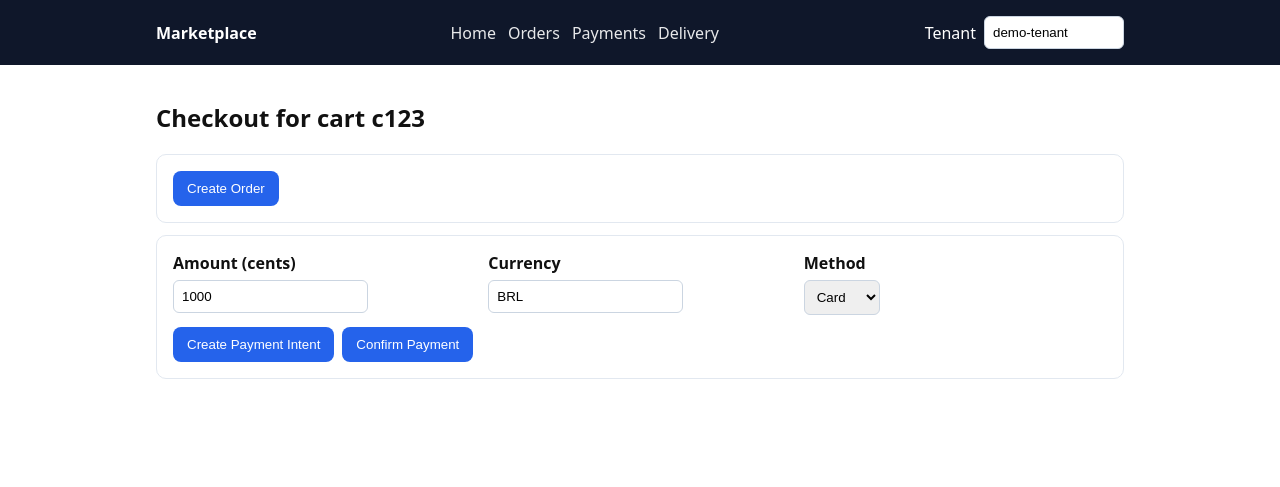
Test case: CheckoutPage › creates order then payment intent and confirm
What coordinates should you click on to do the following:
click the button "Create Order"
I would click on:
 (226, 188)
Its box is left=173, top=171, right=279, bottom=206.
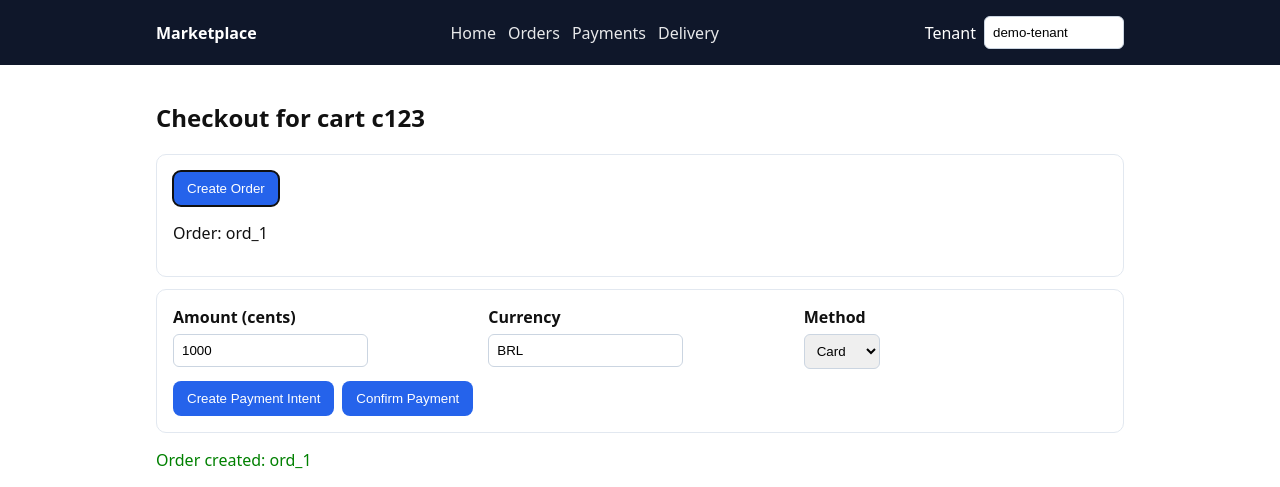
Expected: the text "Order: ord_1" is shown, left=173, top=222, right=268, bottom=244
What coordinates should you click on to do the following:
click the button "Create Payment Intent"
I would click on:
 (254, 398)
Its box is left=173, top=381, right=334, bottom=416.
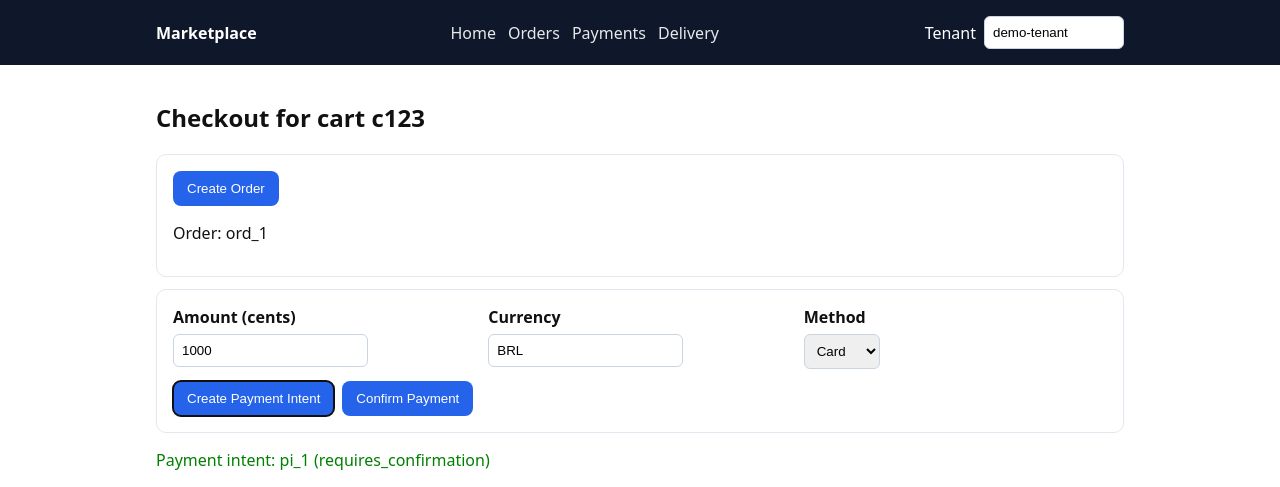
Expected: the text "Payment intent: pi_1 (requires_confirmation)" is shown, left=156, top=449, right=490, bottom=471
What coordinates should you click on to do the following:
click the button "Confirm Payment"
I would click on:
 (408, 398)
Its box is left=342, top=381, right=473, bottom=416.
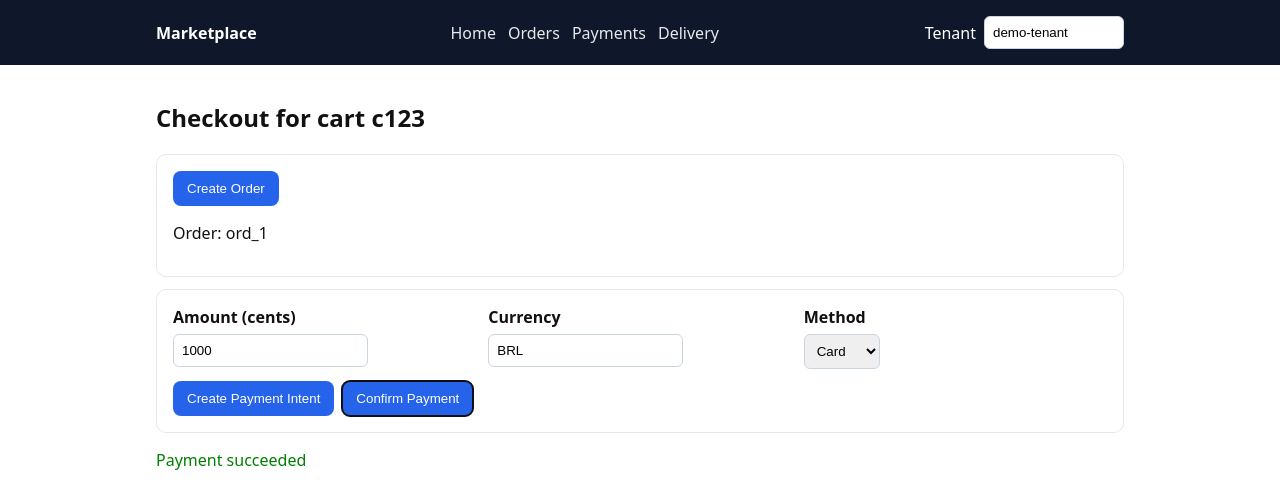
Expected: the text "Payment succeeded" is shown, left=156, top=449, right=306, bottom=471
